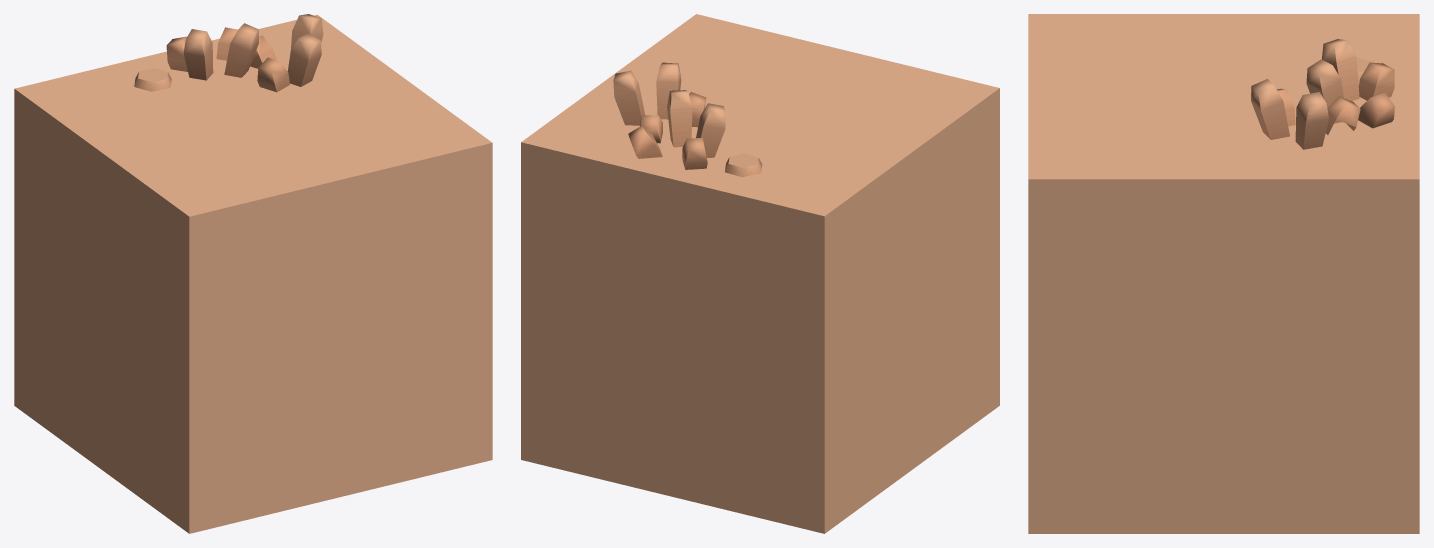
The model's file is patch-sand-foliage.040.glb.
3 views of the same model, side by side, from view 1: azimuth 30°, elevation 25°; view 2: azimuth 150°, elevation 25°; view 3: azimuth 270°, elevation 25° (orthographic). The views are drawn at different scales.
Parts seen in each view (by area): view 1: patch-sand-foliage.044; view 2: patch-sand-foliage.044; view 3: patch-sand-foliage.044.
Boxes of the visible parts, x1=… form: patch-sand-foliage.044: x1=14, y1=14, x2=492, y2=533; patch-sand-foliage.044: x1=521, y1=14, x2=999, y2=533; patch-sand-foliage.044: x1=1028, y1=14, x2=1419, y2=533.
Size of the model in its own units: 0.574 by 0.6597 by 0.574.
Materials: 2 (2 with a texture image).
